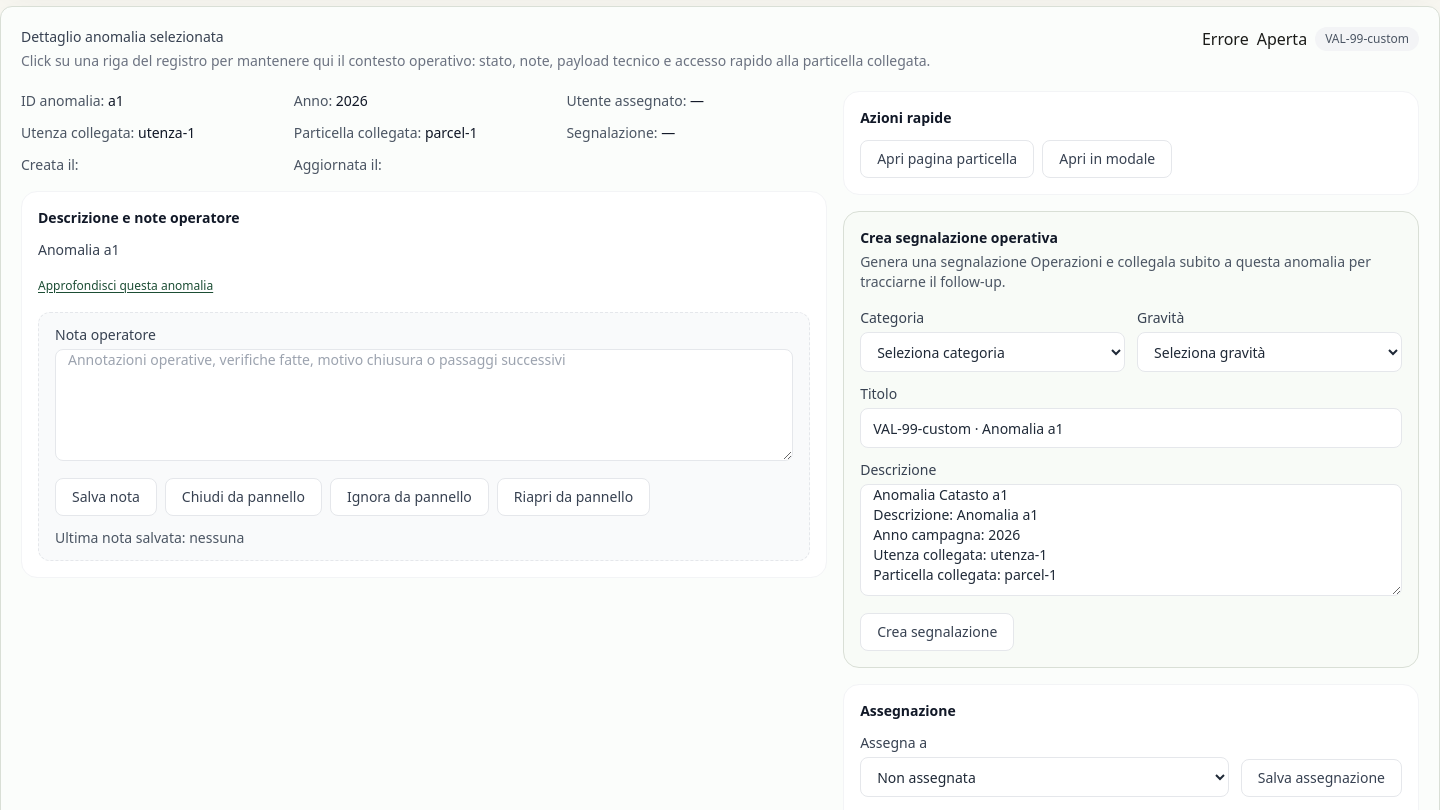
Test: Catasto anomalie manual queue characterization › saves trimmed note  checked  and refreshes the register
This screenshot has width=1440, height=810.
(page scrolled)
Expected: the button "Salva nota" is shown, [55,478,157,516]
Replace the text in the text box labelled "Nota operatore" with " checked ": (424, 405) [55,349,793,461]
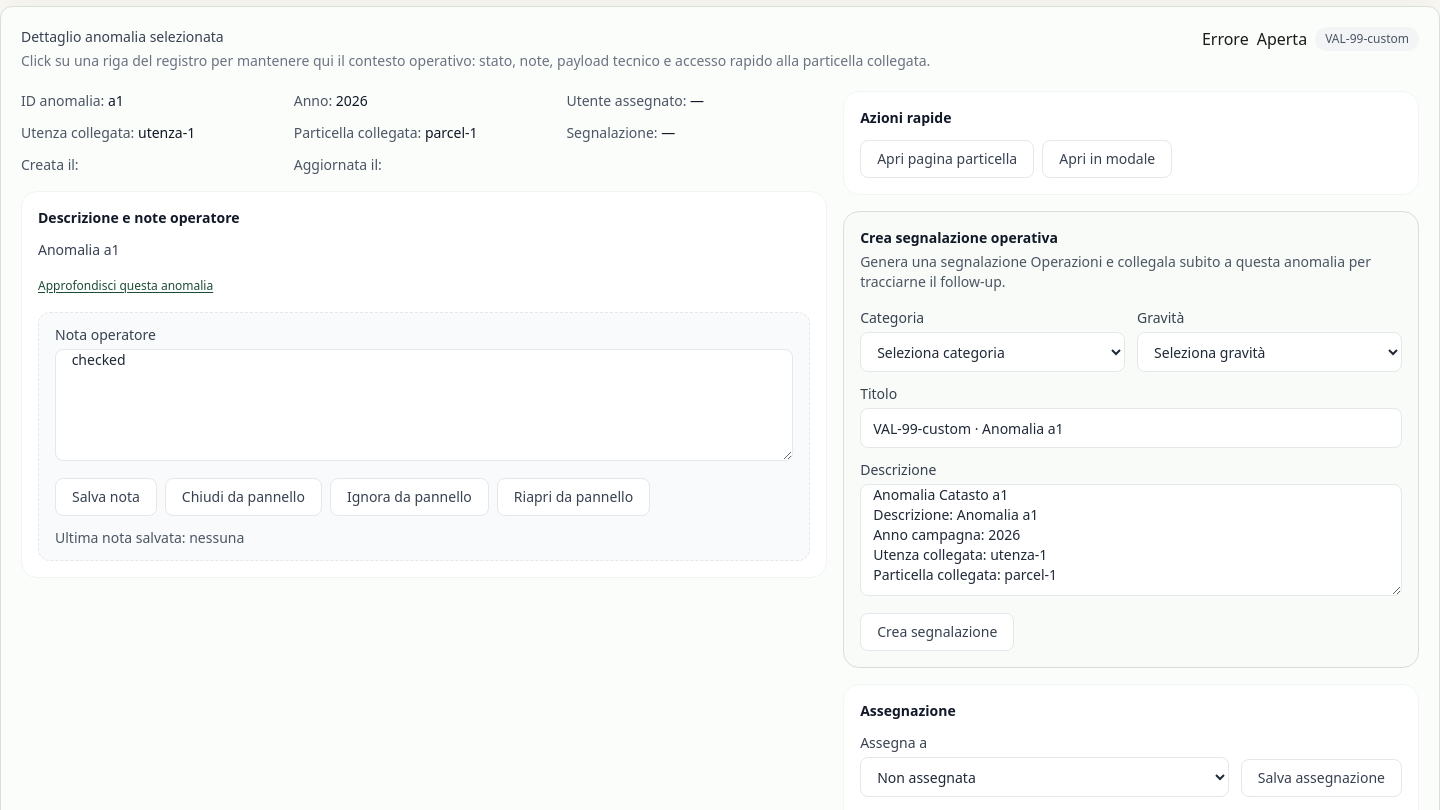
Click the button "Salva nota": (106, 497) [55,478,157,516]
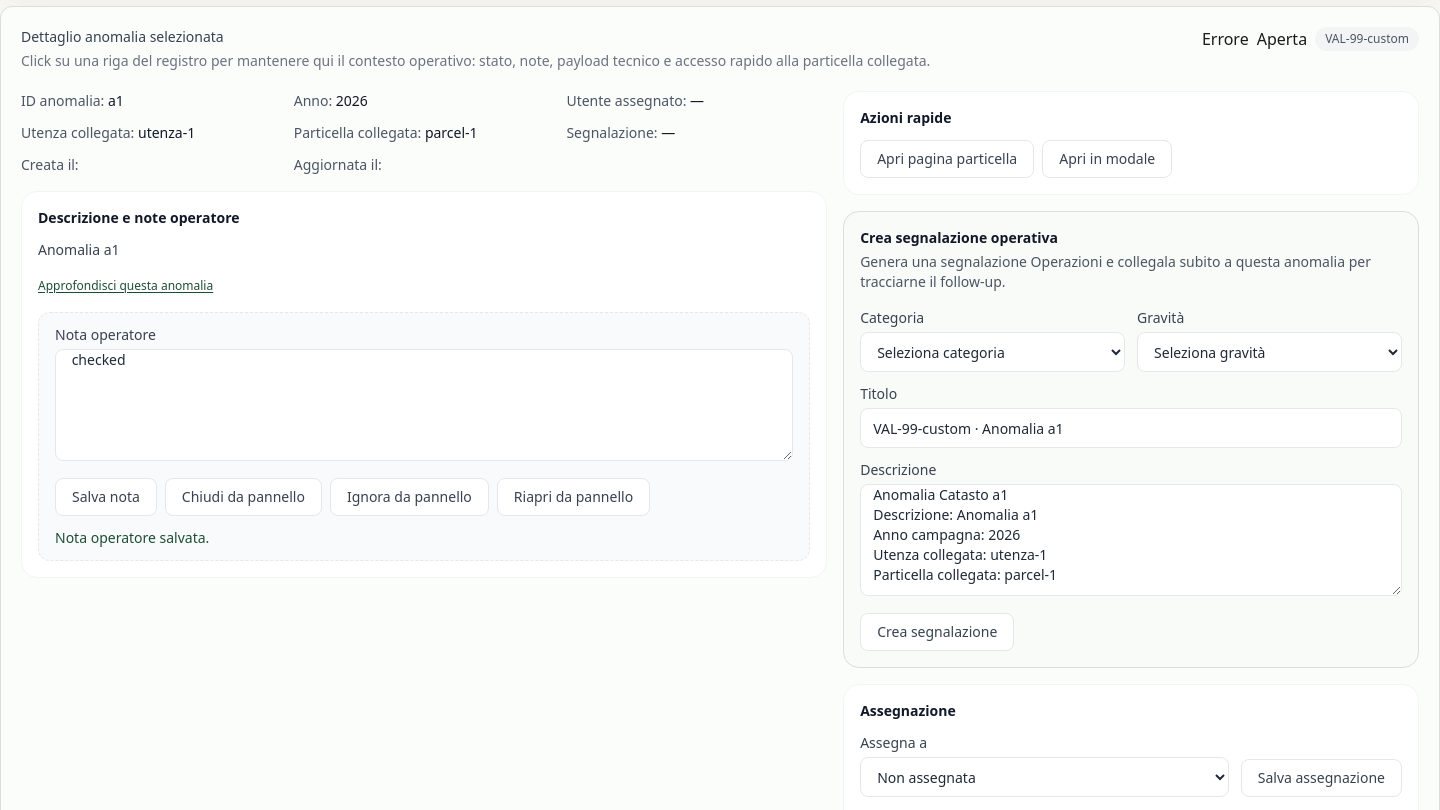
Now the text "Nota operatore salvata." is shown, box [55,528,209,547]
